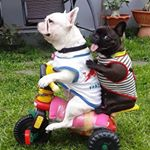puppy: (31, 6, 101, 136), (88, 20, 141, 120)
